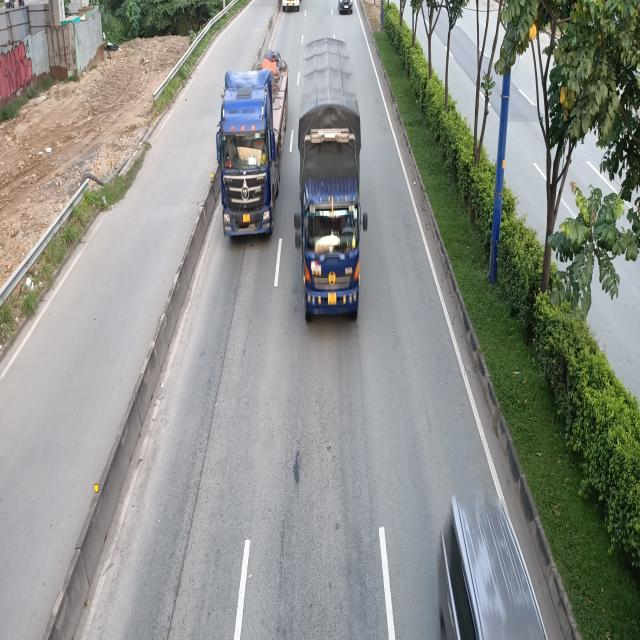container: (215, 54, 289, 241)
truck: (293, 37, 368, 320)
